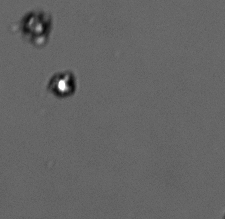Dead Cell: (25, 14, 50, 37)
Living Cell: (51, 72, 76, 96)
